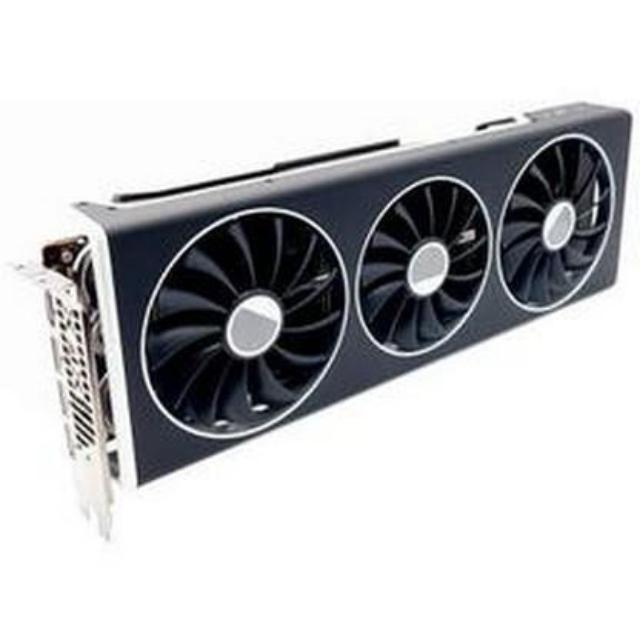GPU: (39, 99, 638, 484)
